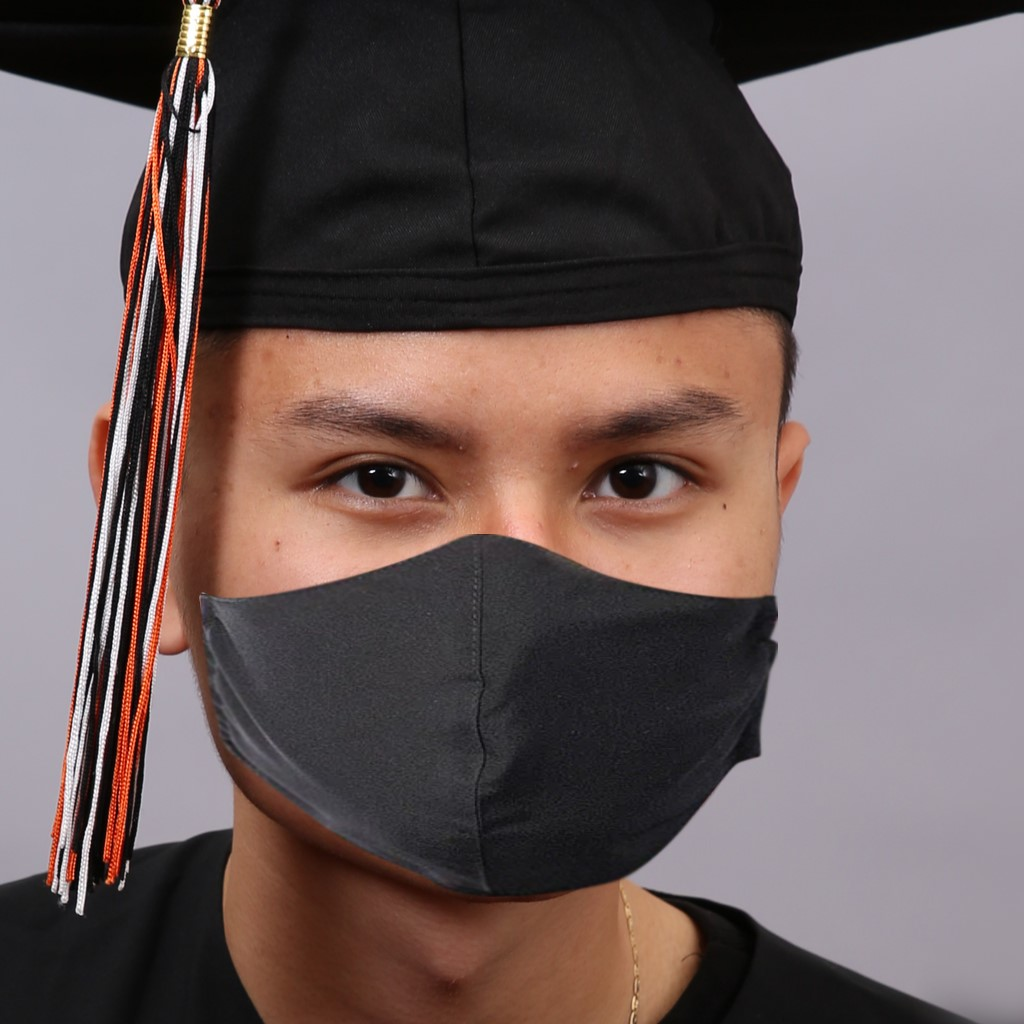con_mascara: (182, 205, 783, 890)
